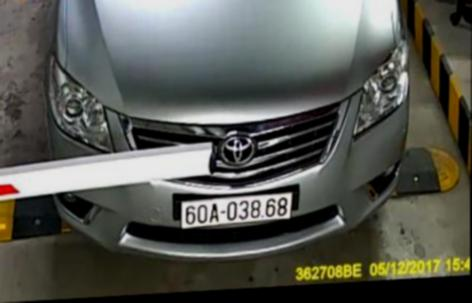License_Plate: (171, 184, 306, 235)
